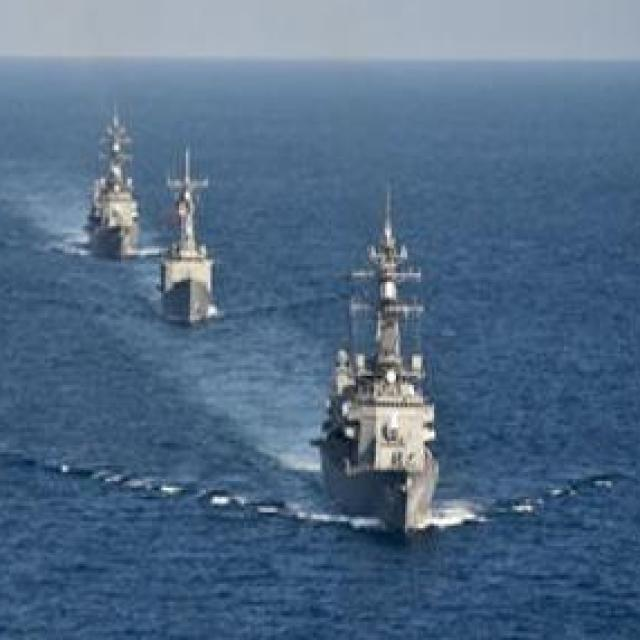navalvessels: (315, 196, 442, 528), (155, 151, 217, 318), (89, 108, 150, 250)
